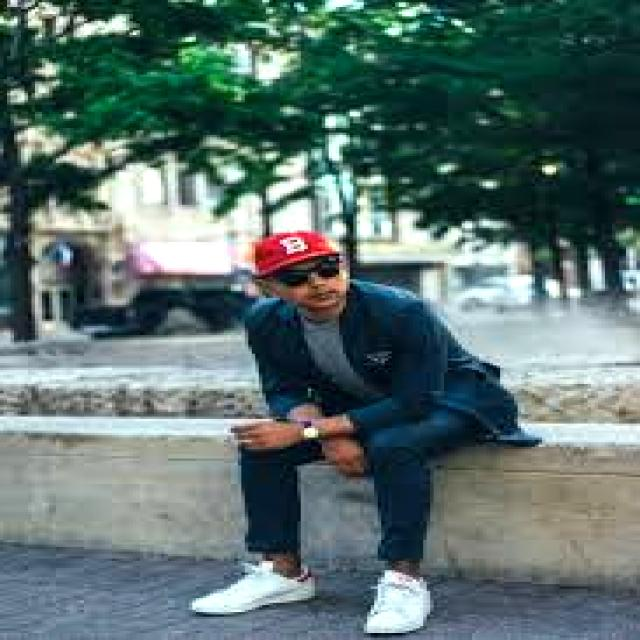foot-wear: (189, 561, 314, 614), (364, 571, 433, 635)
hat: (256, 231, 339, 276)
lower-wear: (357, 408, 482, 560)
